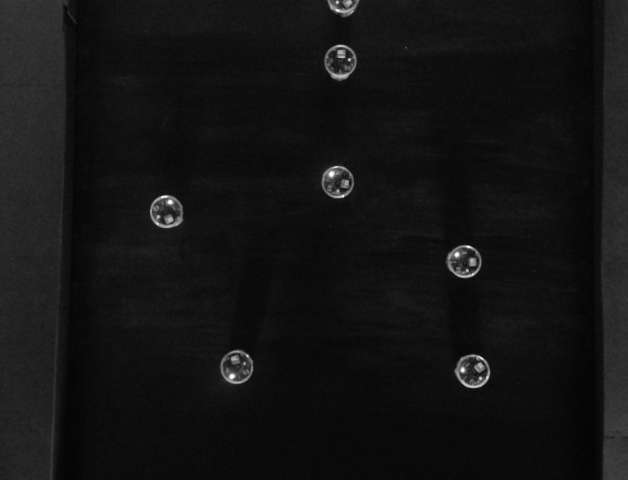epuck_2: (451, 352, 494, 392), (442, 241, 483, 280), (321, 42, 360, 82), (148, 192, 185, 231), (319, 165, 358, 199), (218, 349, 255, 384), (322, 1, 360, 18)
